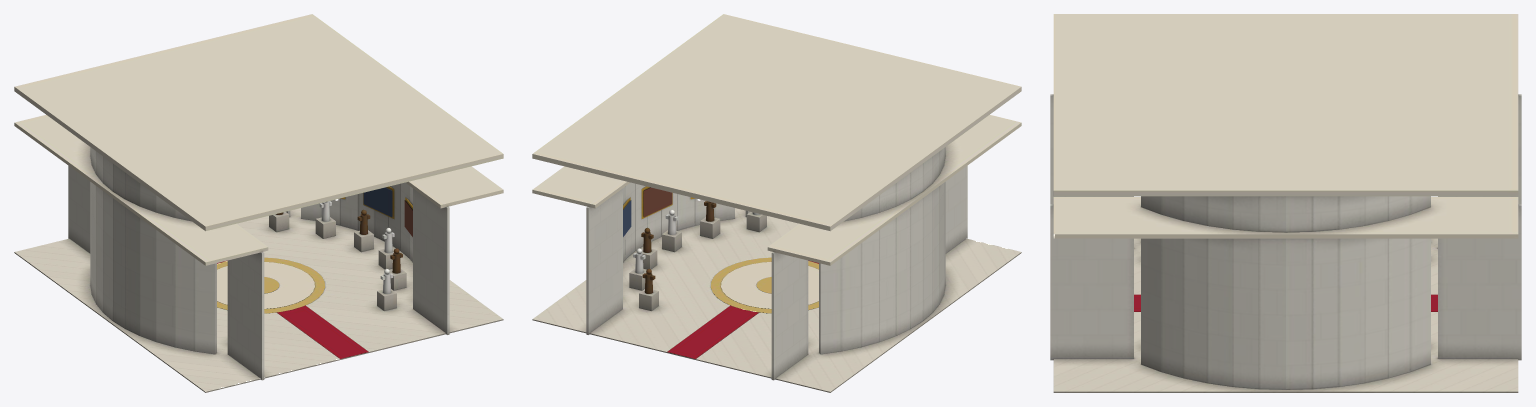
Rendered from capitolio_rotonda.glb.
3 views of the same model, side by side, from view 1: azimuth 30°, elevation 25°; view 2: azimuth 150°, elevation 25°; view 3: azimuth 270°, elevation 25° (orthographic). The views are drawn at different scales.
Visible parts, largest first — view 1: capitolio_rotonda; view 2: capitolio_rotonda; view 3: capitolio_rotonda.
Part boxes in pixels (x1=…): capitolio_rotonda: x1=14, y1=14, x2=503, y2=392; capitolio_rotonda: x1=532, y1=14, x2=1021, y2=392; capitolio_rotonda: x1=1050, y1=14, x2=1521, y2=392.
Bounding box in the file's own units: 27 × 14.4 × 30.4.
Materials: 1 (1 with a texture image).
